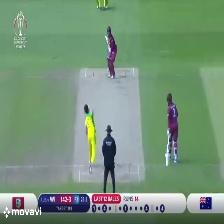batsman: (102, 25, 123, 81)
